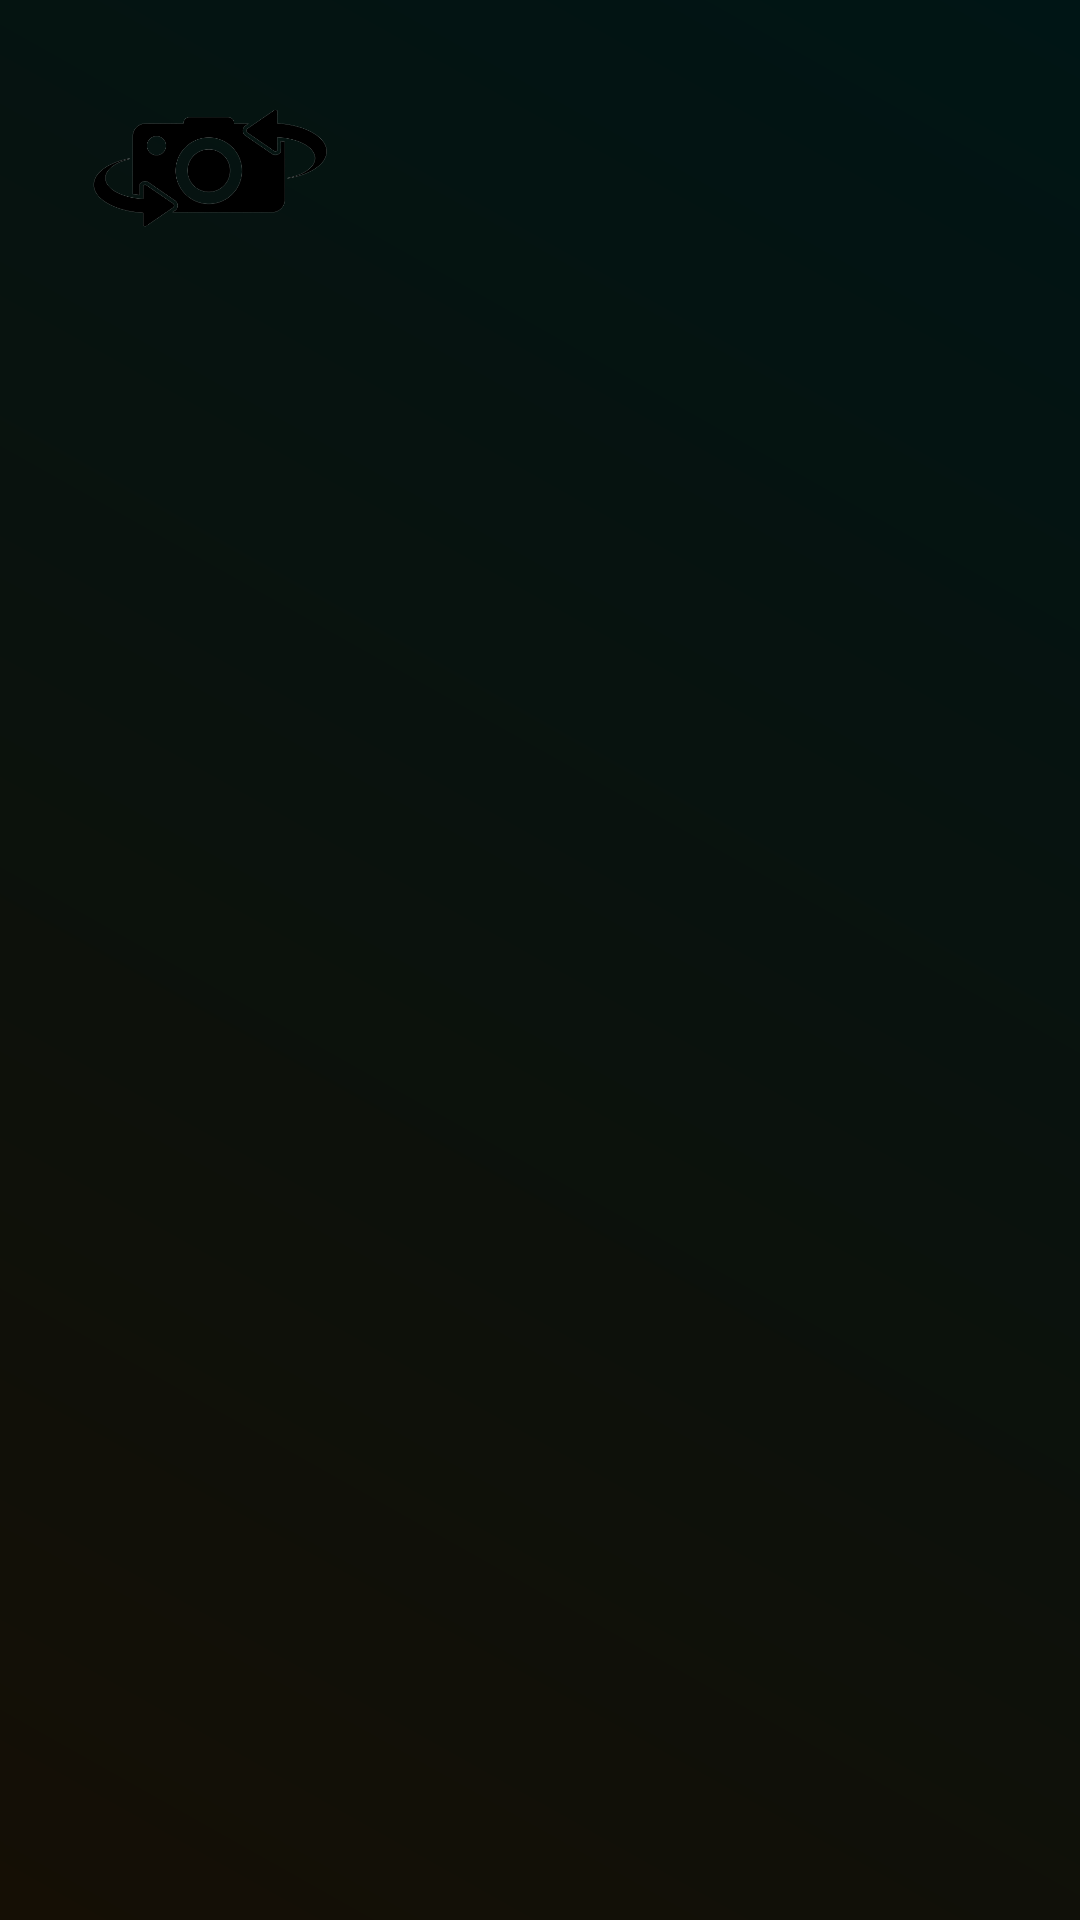

Icon click points for this 1080w x 1920h phone screenshot, format [x,y]:
rotatecam: [210,168]
